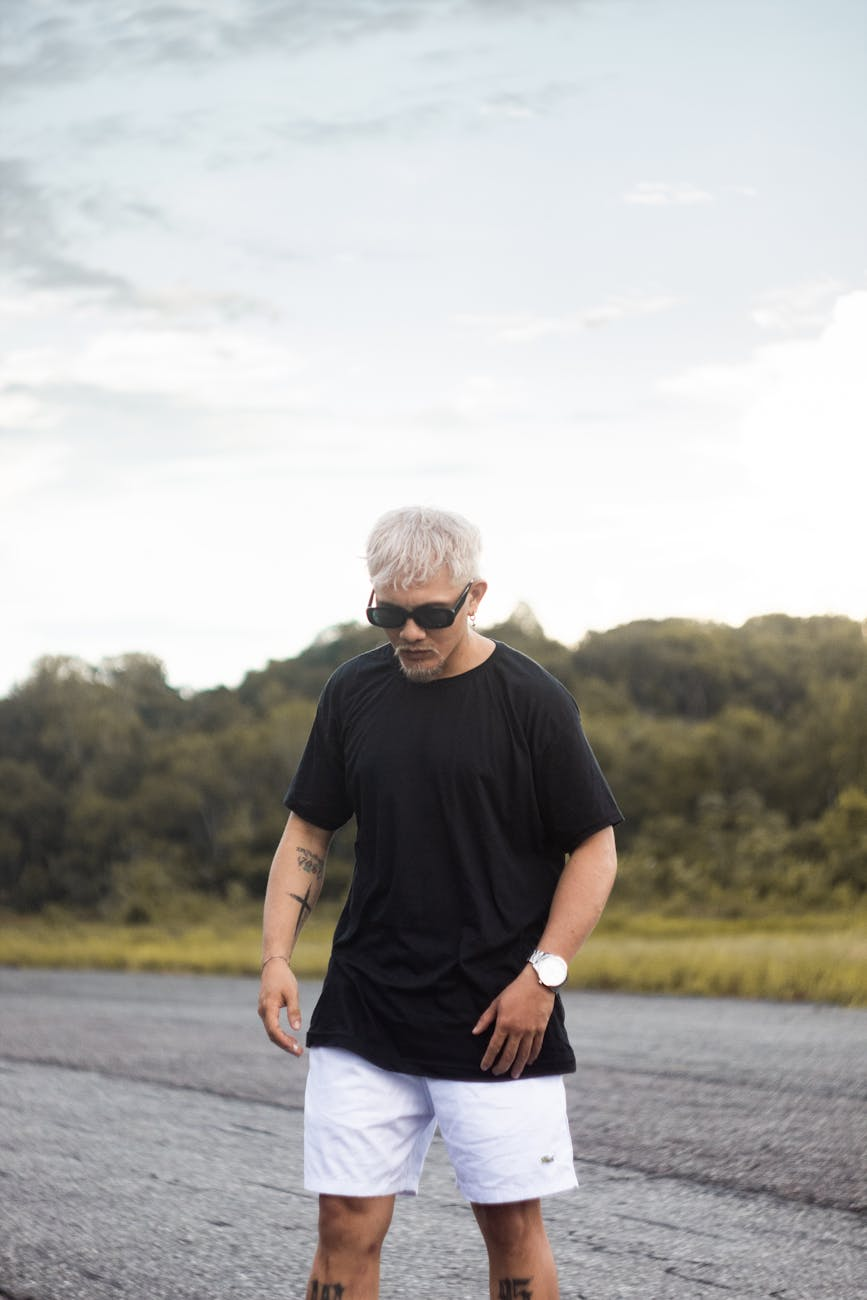shorts: (282, 1038, 590, 1205)
